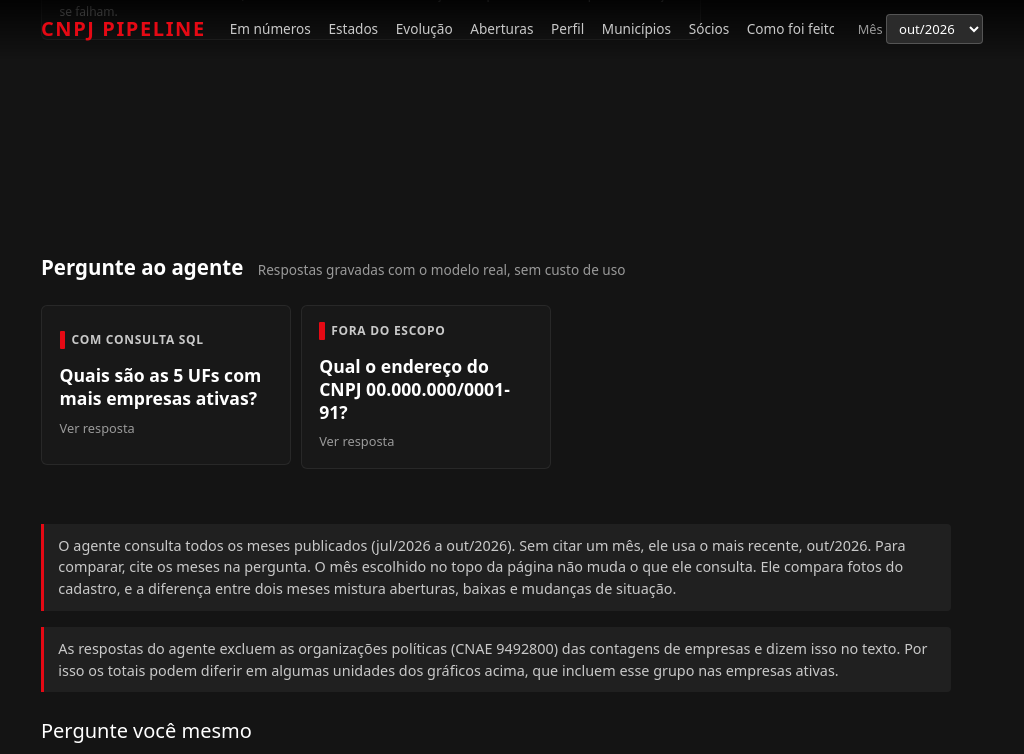
Scenario: agente › mostra como a resposta gravada chegou la, a partir do trajeto
(page scrolled)
Click the button "Quais são as 5 UFs" at (166,385), box [41, 305, 291, 465]
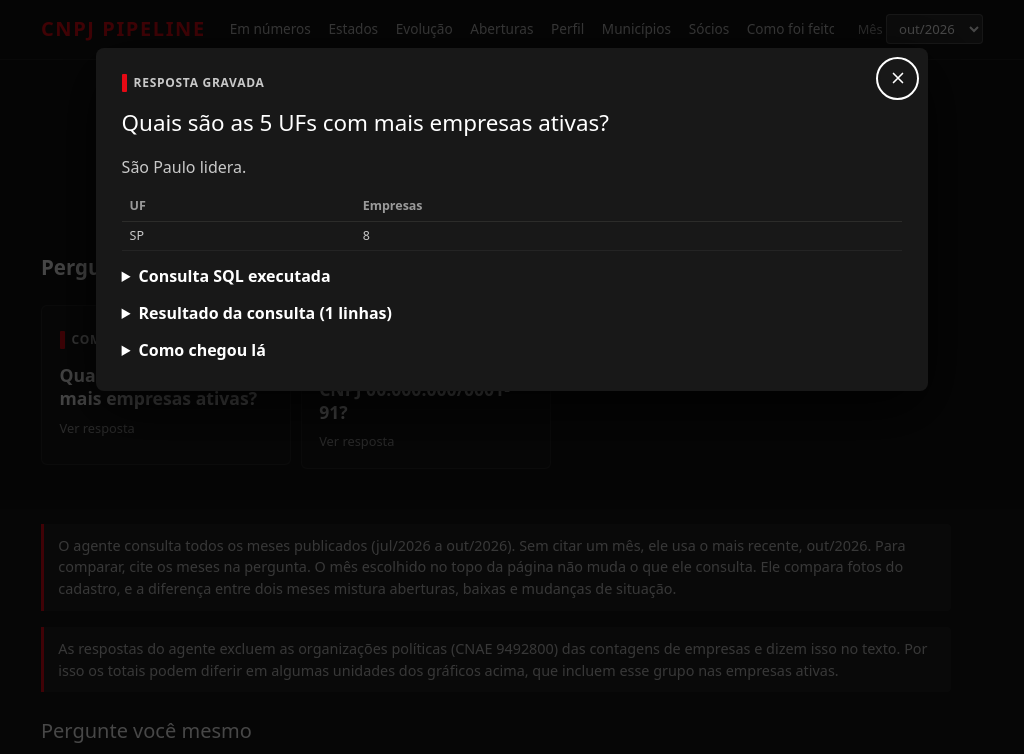
Now the heading "Como chegou lá" is shown, box [138, 339, 266, 361]
